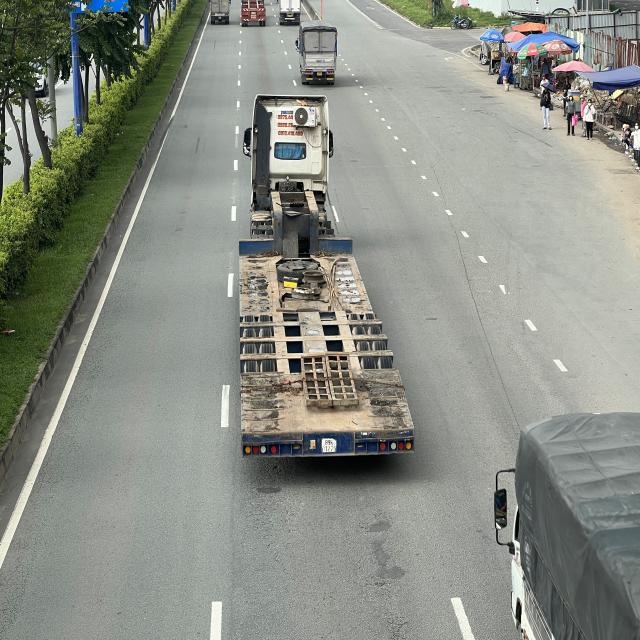container: (239, 93, 417, 457)
truck: (296, 23, 338, 87)
